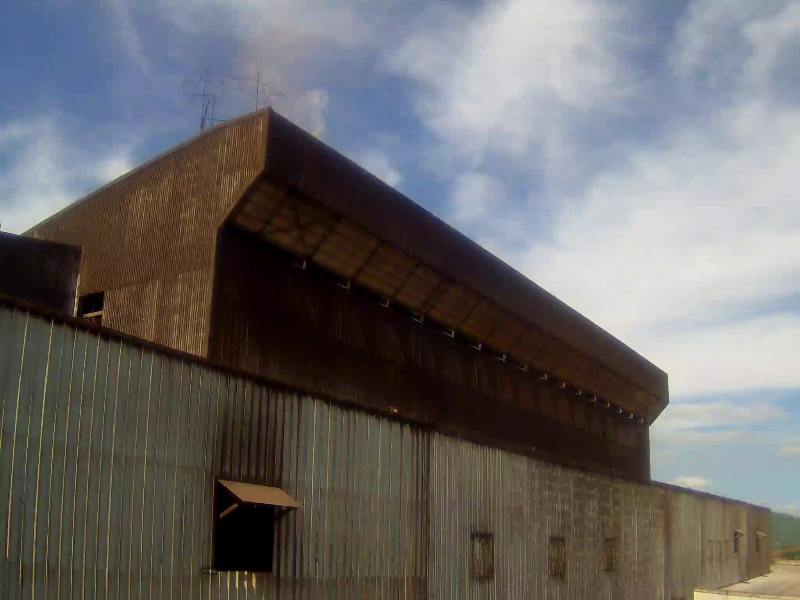bom: (337, 124, 714, 447), (564, 276, 800, 493)
ruim: (17, 4, 333, 166)
